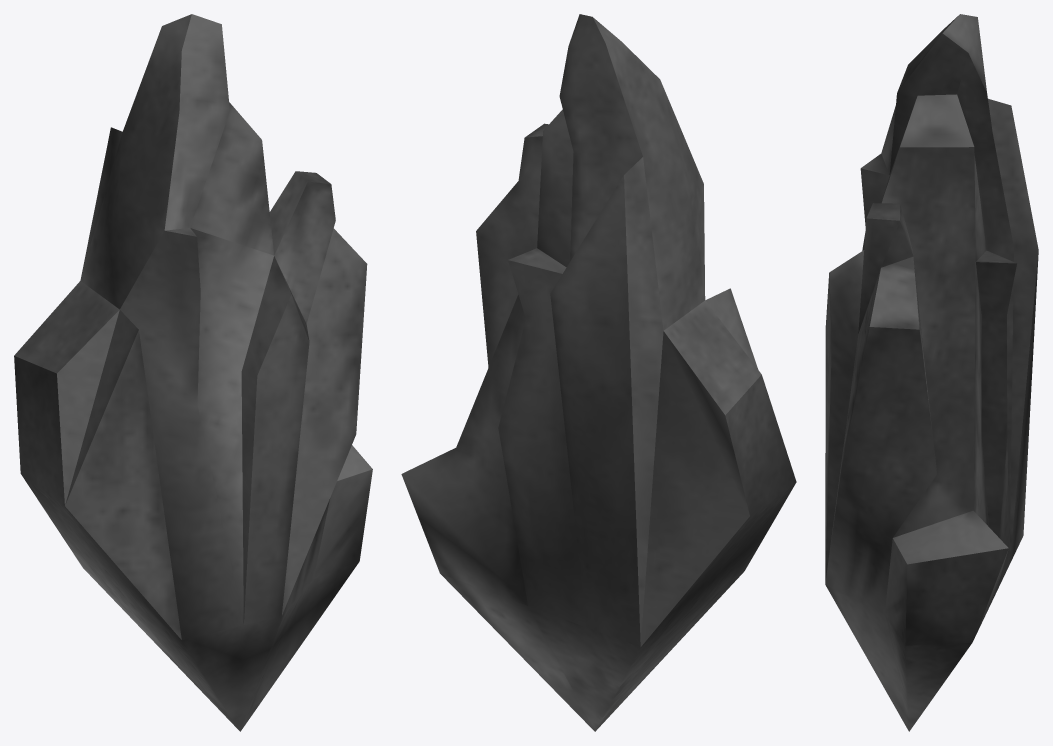
3 views of the same model, side by side, from view 1: azimuth 30°, elevation 25°; view 2: azimuth 150°, elevation 25°; view 3: azimuth 270°, elevation 25° (orthographic). The views are drawn at different scales.
Parts seen in each view (by area): view 1: rock_LOD0; view 2: rock_LOD0; view 3: rock_LOD0.
Boxes of the visible parts, x1,y1,x2,y2 form: rock_LOD0: (14, 14, 372, 731); rock_LOD0: (401, 14, 796, 731); rock_LOD0: (825, 14, 1038, 731).
Size of what is drawn, in the model's own units: 316 by 669 by 183.
